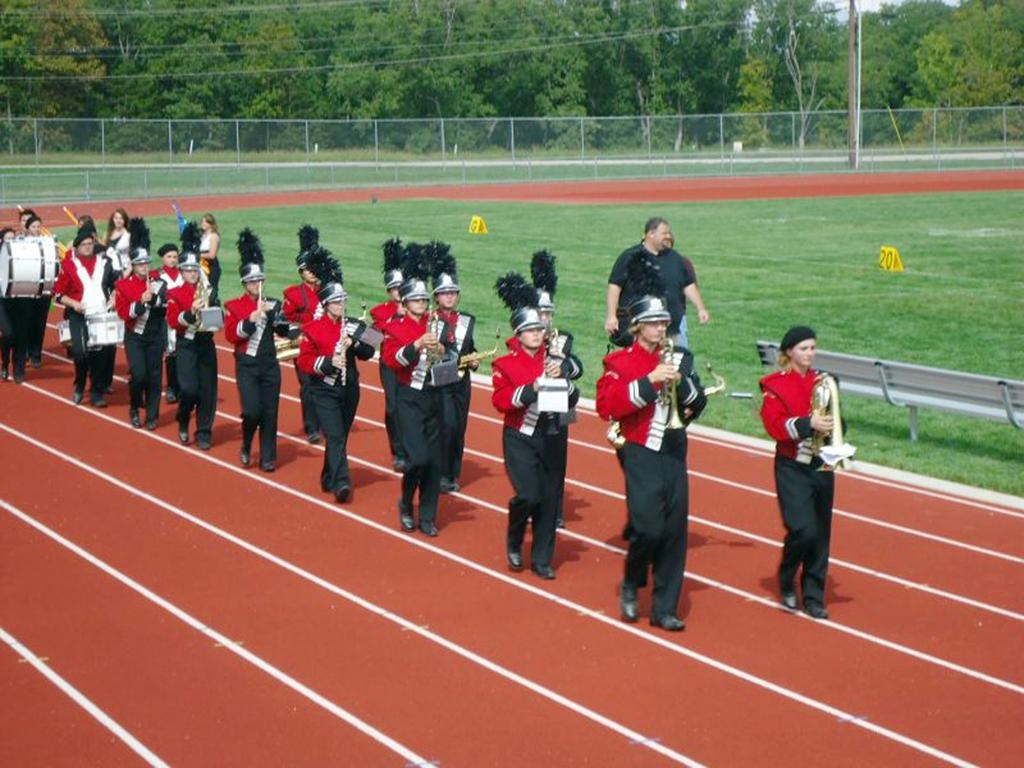human_face: (792, 337, 816, 367), (642, 320, 666, 342), (652, 224, 670, 249), (406, 292, 426, 314), (388, 280, 406, 300), (522, 328, 542, 346), (436, 290, 458, 306), (328, 295, 344, 315), (245, 278, 263, 294), (304, 264, 320, 282), (535, 310, 551, 328), (78, 238, 92, 254), (163, 250, 177, 266), (182, 266, 196, 282), (134, 260, 148, 274), (20, 215, 32, 231), (112, 212, 124, 226), (28, 220, 40, 234), (2, 232, 14, 246), (201, 218, 211, 230), (78, 221, 84, 229)
